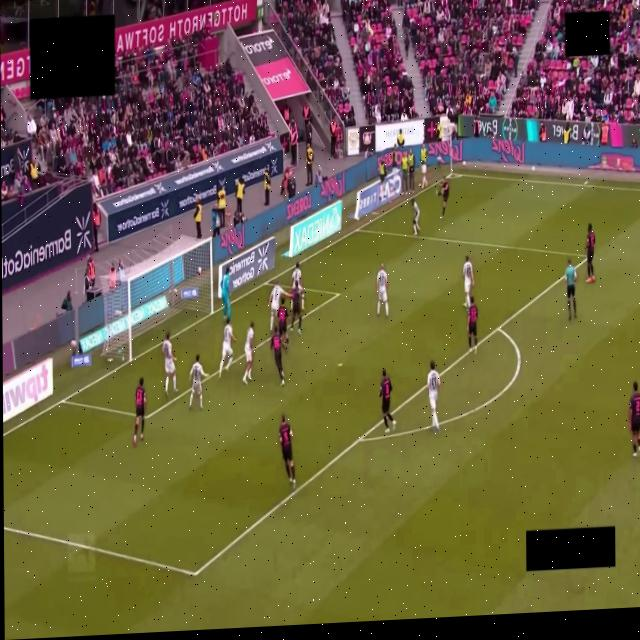player: (279, 415, 295, 488), (379, 369, 395, 433), (219, 317, 236, 377), (189, 355, 206, 409), (162, 333, 176, 397), (268, 284, 287, 331), (427, 361, 439, 433), (270, 327, 284, 386), (628, 382, 639, 456), (133, 378, 145, 445), (242, 323, 253, 383), (290, 281, 302, 335), (376, 264, 388, 317), (462, 256, 473, 309), (467, 296, 477, 353), (291, 263, 303, 310), (585, 224, 594, 283), (277, 297, 288, 344), (220, 267, 229, 321), (438, 178, 449, 218), (411, 200, 419, 235)
referee: (564, 260, 576, 321)
